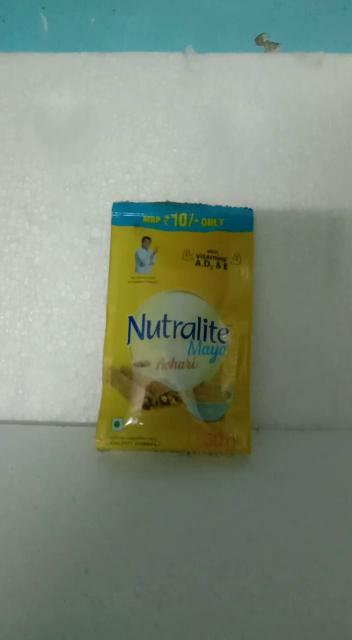Nutralite ACHARI MAYO 30g: (102, 200, 253, 451)
